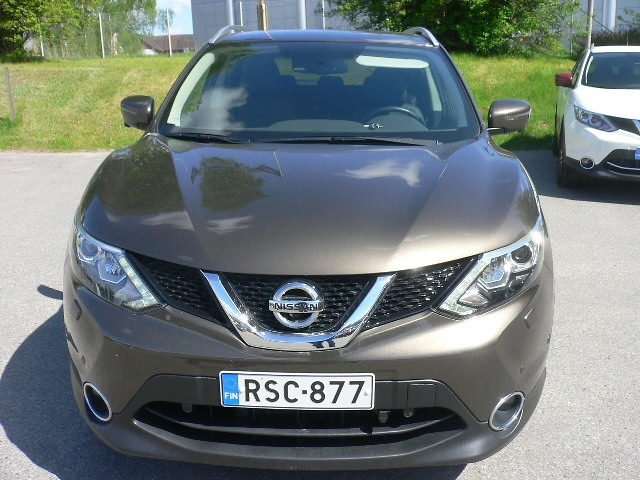license: (215, 370, 373, 415)
